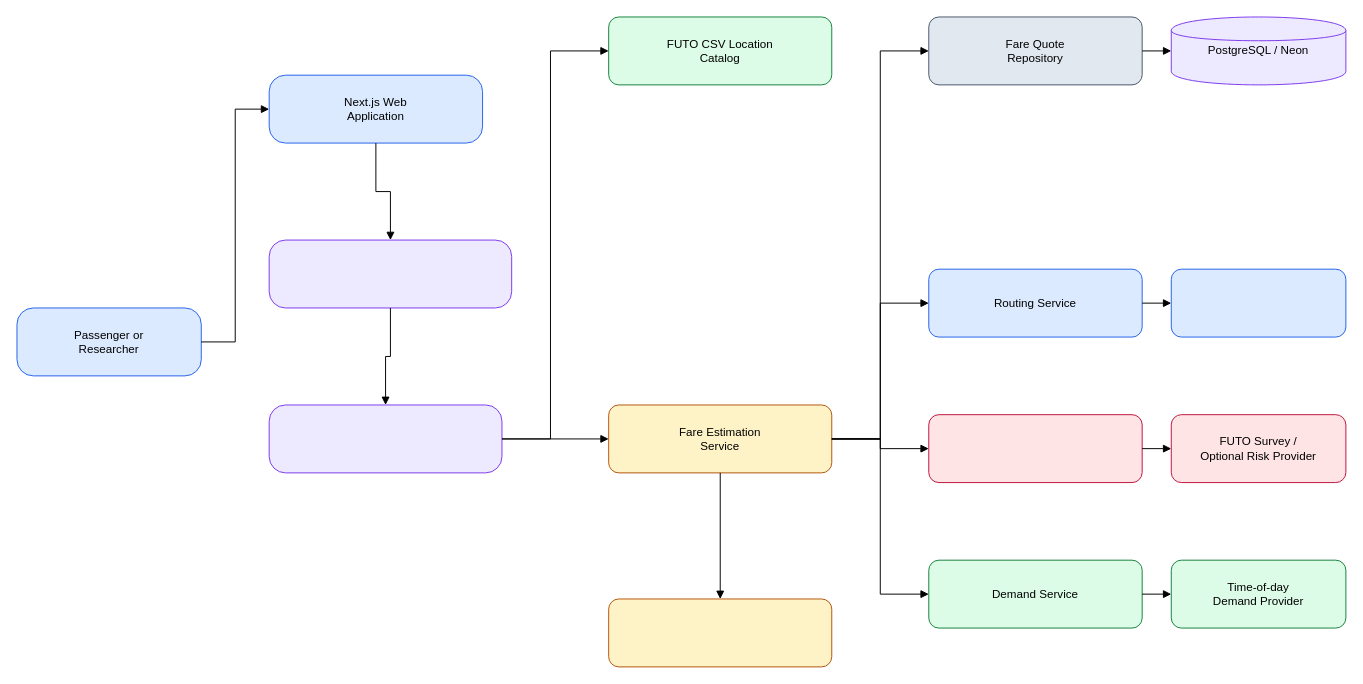
This 1363x684 diagram has some shape labels left out. The box of each missing label's shape, as (x1, y1, x2, y2) in pixels:
FastAPI API Gateway: (268, 404, 502, 473)
Next.js Server-side API Proxy: (268, 239, 512, 308)
OSRM Routing Provider: (1170, 268, 1346, 337)
Pricing Engine: (608, 598, 832, 667)
Risk Service: (928, 414, 1142, 483)
